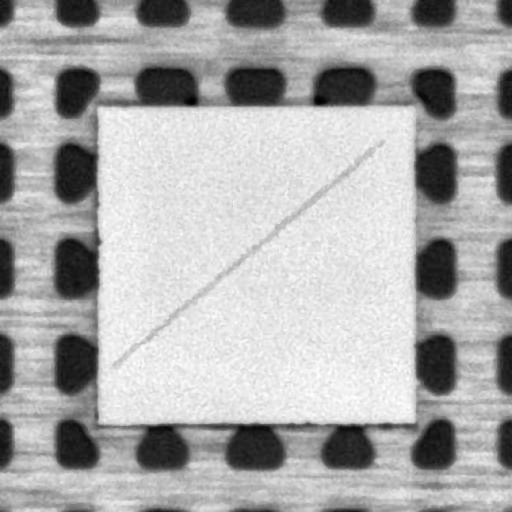DIE_CRACK: (111, 141, 381, 367)
